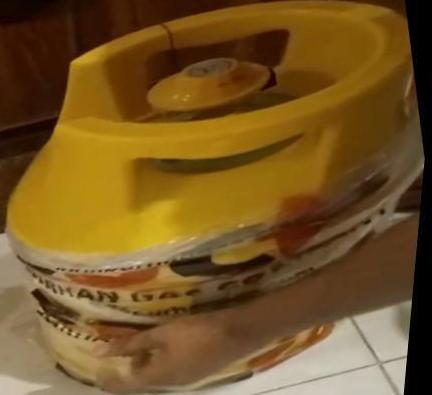cylinder: (1, 0, 432, 395)
